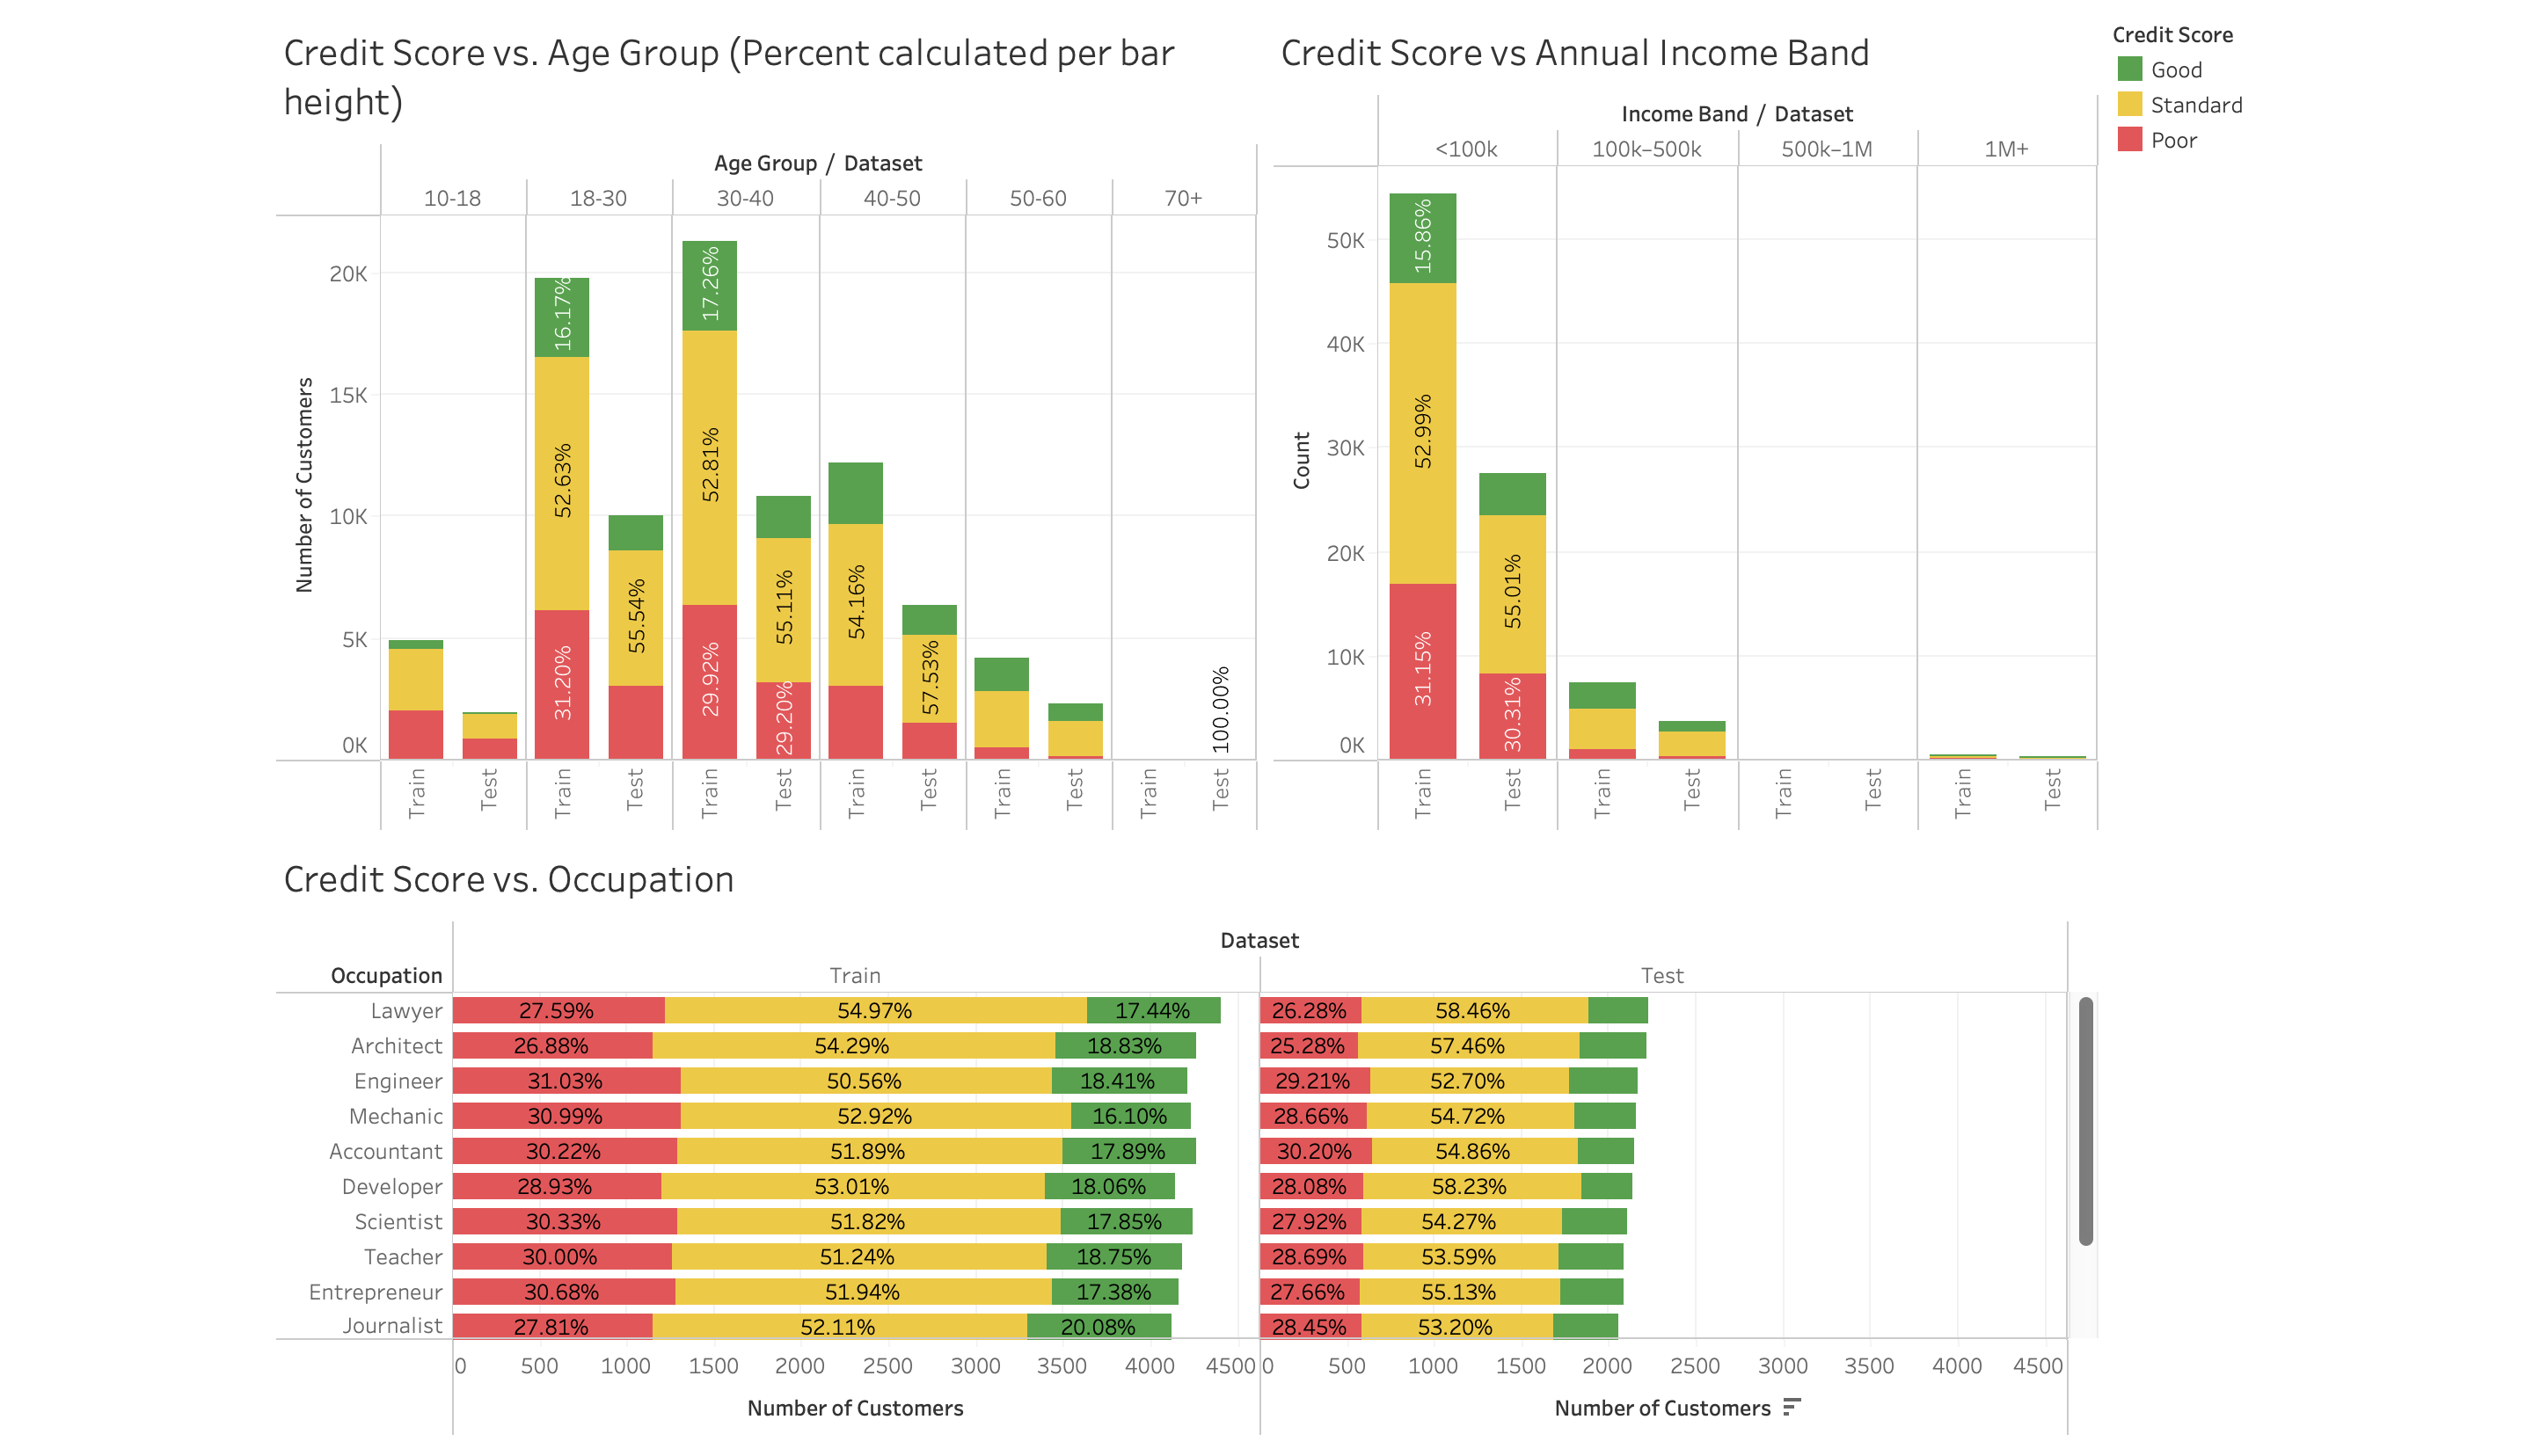

This screenshot's page, from the dashboard's own definition file:
{"tool":"tableau","page":{"name":"Dataset Overview by Credit Score and Train vs Test","canvas":[1000,1000],"units":"permille","ordinal":2},"visuals":[{"type":"worksheet","title":"Credit Score vs. Age Group (Percent calculated per bar height)","mark":"Automatic","rows":["Count"],"cols":["Age_Group","Dataset"],"box":[7,10.4,493,565.1]},{"type":"worksheet","title":"Credit Score vs Annual Income Band","mark":"Automatic","rows":["Count"],"cols":["Income_Band","Dataset"],"box":[500,10.4,414.2,565.1]},{"type":"legend","title":"Credit Score vs. Age Group (Percent calculated per bar height)","param":"[federated.158cayi1nf2vfj16malww12za9wa].[none:Credit_Score:nk]","box":[914.2,10.4,78.8,112]},{"type":"worksheet","title":"Credit Score vs. Occupation","mark":"Bar","rows":["Occupation"],"cols":["Dataset","Count"],"box":[7,575.5,907.2,414.1]}]}

Visuals, with their boxes on the dashboard's canvas, which has no fixed pixel size, in thousandths of its width and height (x1, y1, x2, y2). These are canvas units, not pixel positions in the 2533x1456 screenshot, which may show the page scaled, cropped or inside an application window:
"Credit Score vs. Age Group (Percent calculated per bar height)" worksheet: x1=7 y1=10 x2=500 y2=576
"Credit Score vs Annual Income Band" worksheet: x1=500 y1=10 x2=914 y2=576
"Credit Score vs. Age Group (Percent calculated per bar height)" legend: x1=914 y1=10 x2=993 y2=122
"Credit Score vs. Occupation" worksheet (Bar marks): x1=7 y1=576 x2=914 y2=990
